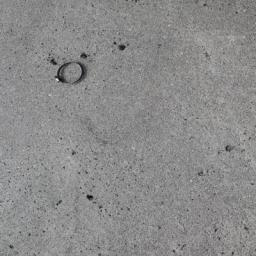FOD: (53, 61, 90, 87)
